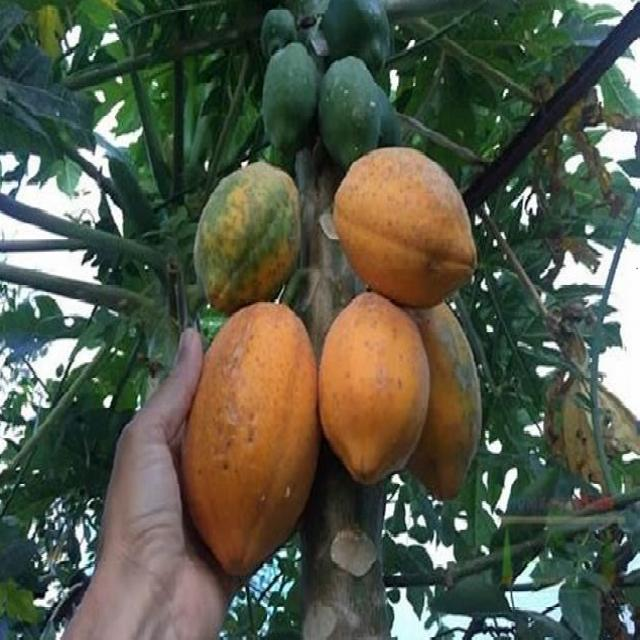Pepaya rippen: (180, 295, 322, 578), (331, 153, 495, 305), (323, 289, 422, 474), (198, 158, 310, 299), (422, 311, 476, 491)
